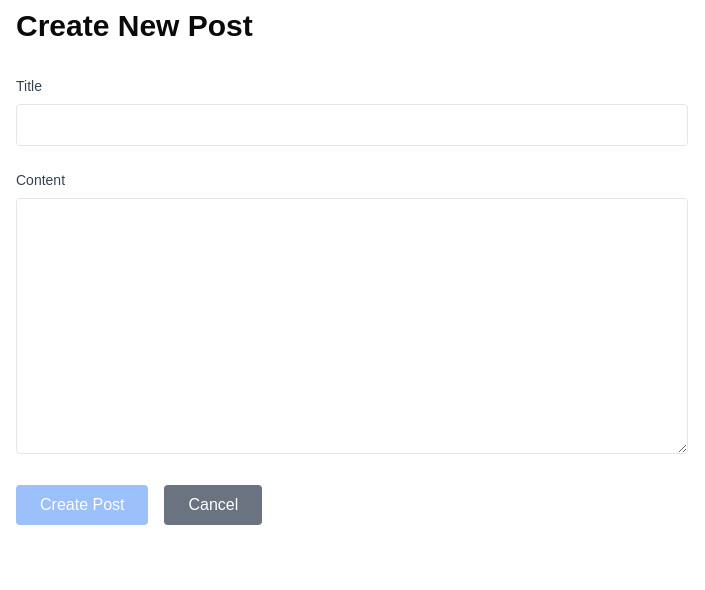
CreatePost › validates minimum length requirements
This screenshot has width=705, height=590.
Note: First make the button enabled with valid input
In the field labelled "Title": (352, 125) x1=16 y1=104 x2=688 y2=146, type "Test Title"
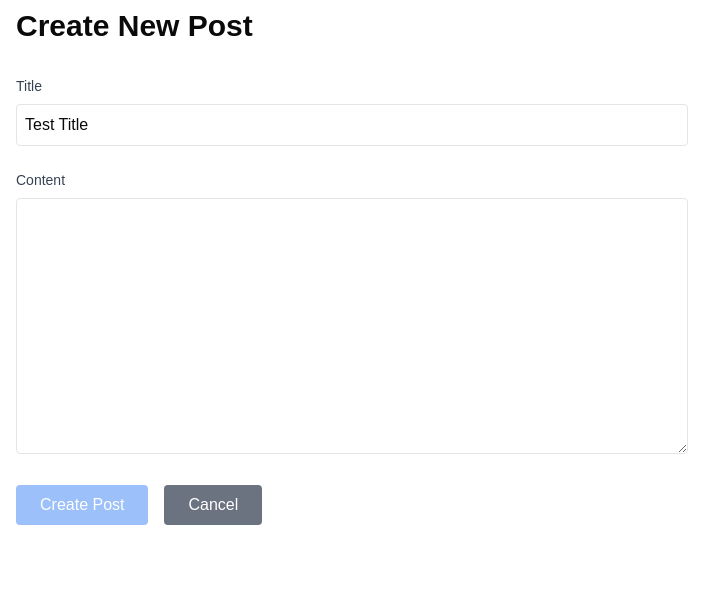
In the text box labelled "Content": (352, 326) x1=16 y1=198 x2=688 y2=454, type "Test Content Long Enough"
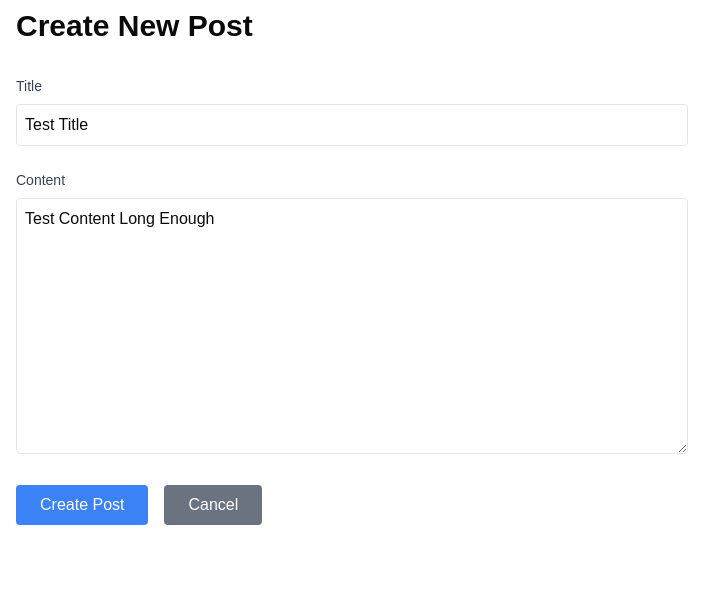
Note: Then change to invalid input
Replace the text in the field labelled "Title" with "ab": (352, 125) x1=16 y1=104 x2=688 y2=146
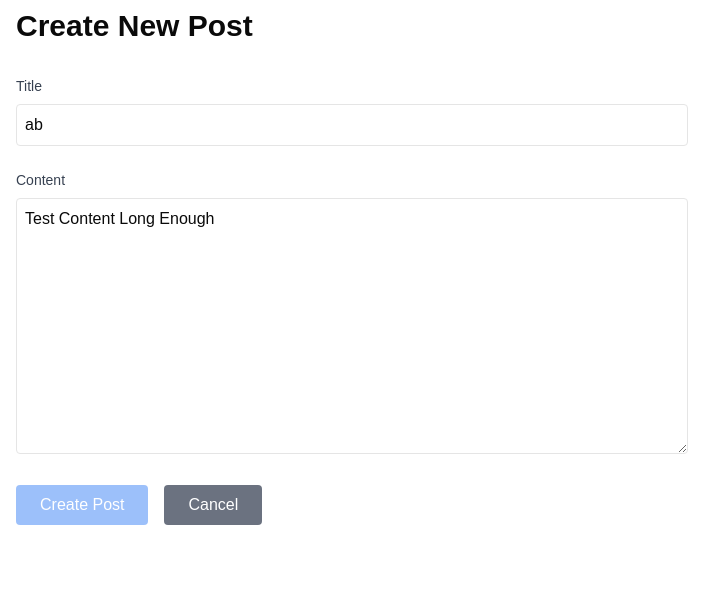
Replace the text in the text box labelled "Content" with "short": (352, 326) x1=16 y1=198 x2=688 y2=454
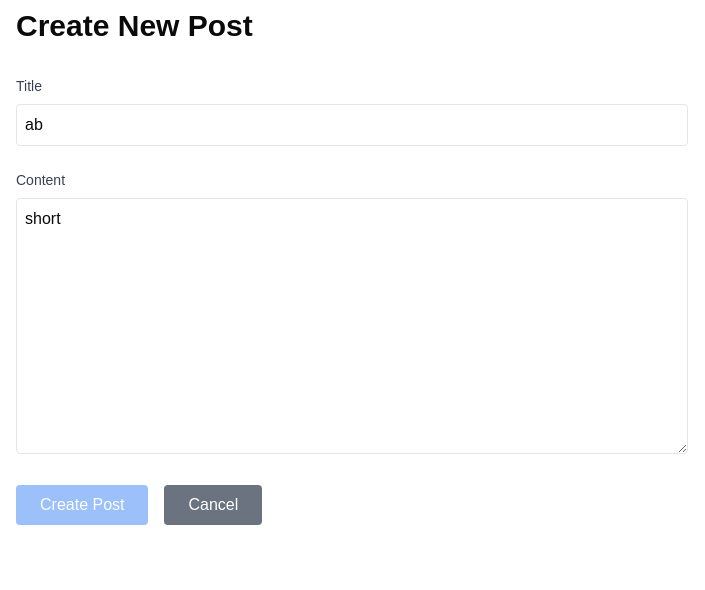
Note: Submit the form
Submit the form
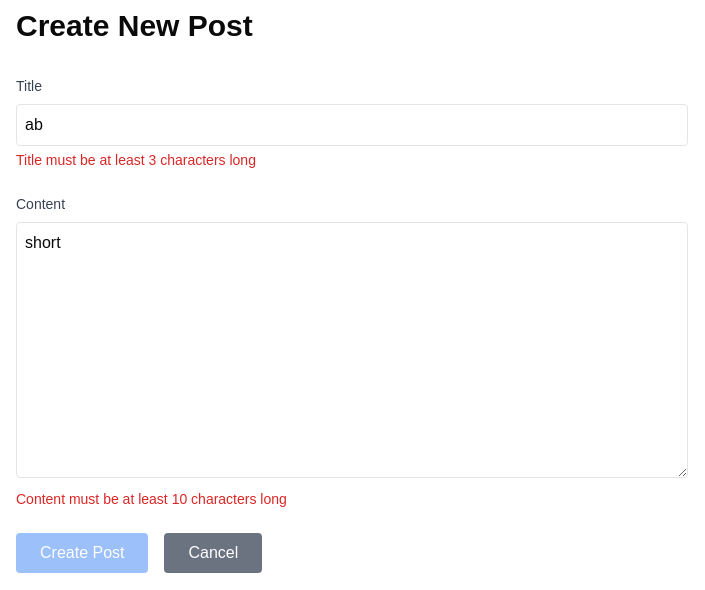
Now the text "Title must be at least 3 characters long" is shown, box x1=16 y1=152 x2=256 y2=168
Now the text "Content must be at least 10 characters long" is shown, box x1=16 y1=491 x2=287 y2=507
